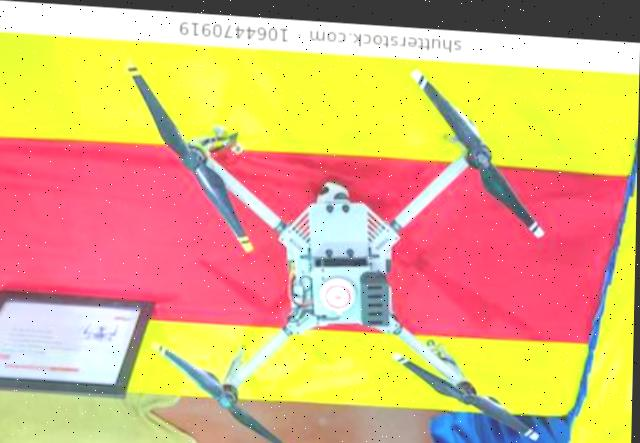drone: (0, 37, 639, 443)
